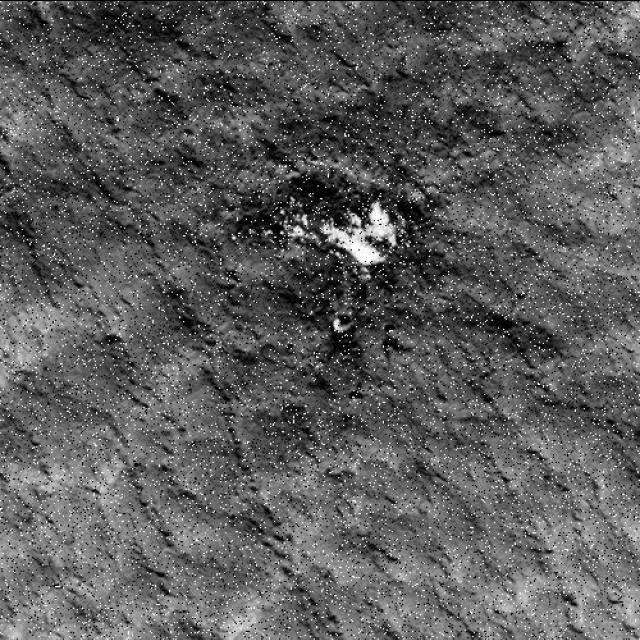crater: (222, 173, 433, 279), (325, 300, 373, 348)
